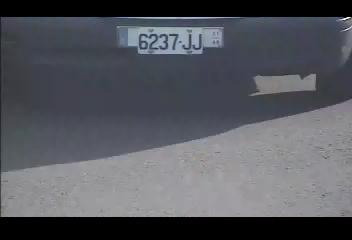plate: (136, 27, 204, 58)
